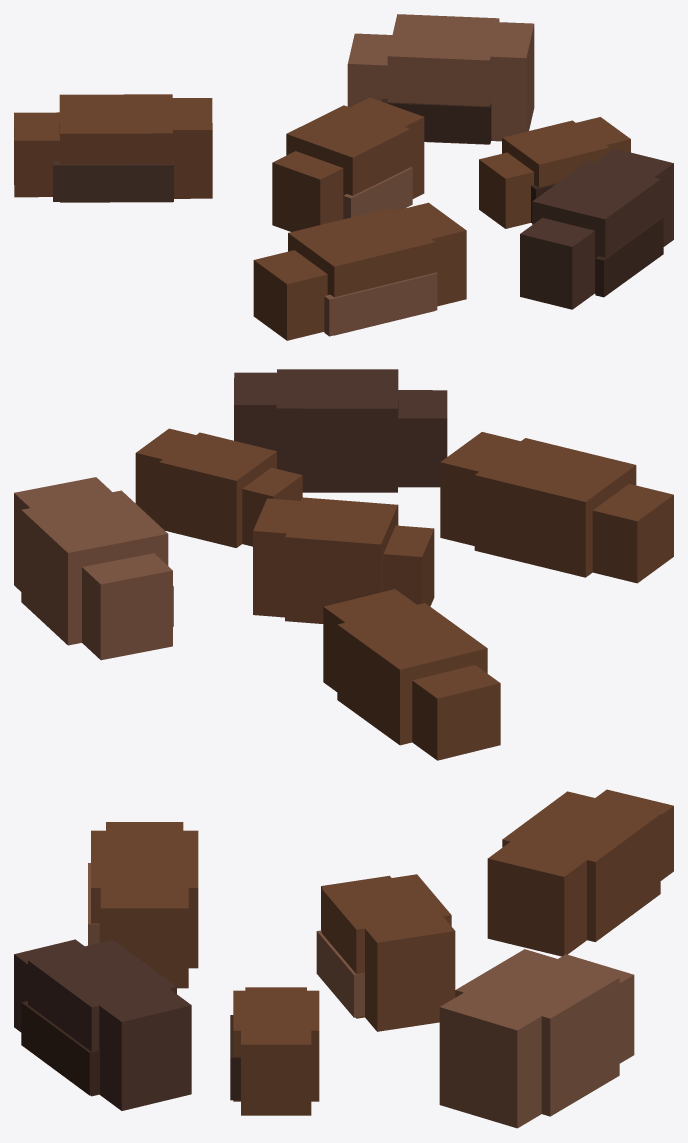
File: CMU3DDecorFloorBrickrubbleSouthWest.glb
3 renders of one model, top to bottom at view 1: azimuth 30°, elevation 25°; view 2: azimuth 150°, elevation 25°; view 3: azimuth 270°, elevation 25°, orthographic. The views are drawn at different scales.
Visible parts, largest first — view 1: brick 2 fractured section 2, brick 5 fractured section 2, brick 1 fractured section 2, brick 6 fractured section 2, brick 3 fractured section 2, brick 6 fractured section 1, brick 5 fractured section 1, brick 3 fractured section 1, brick 2 fractured section 3, brick 1 lower fracture face, brick 5 lower fracture face, brick 4 fractured section 2 (+11 smaller); view 2: brick 5 fractured section 2, brick 6 fractured section 2, brick 2 fractured section 2, brick 1 fractured section 2, brick 3 fractured section 2, brick 4 fractured section 2, brick 2 fractured section 1, brick 1 fractured section 1, brick 5 fractured section 1, brick 6 fractured section 1, brick 5 fractured section 3, brick 3 fractured section 3 (+6 smaller); view 3: brick 2 fractured section 2, brick 1 fractured section 2, brick 2 fractured section 3, brick 6 fractured section 3, brick 1 fractured section 3, brick 3 fractured section 3, brick 6 fractured section 2, brick 5 fractured section 2, brick 5 fractured section 3, brick 3 fractured section 2, brick 4 fractured section 3, brick 4 fractured section 2 (+7 smaller).
Boxes of the visible parts, left/top/right/bottom form: brick 2 fractured section 2: left=387, top=14, right=499, bottom=144; brick 5 fractured section 2: left=288, top=208, right=435, bottom=335; brick 1 fractured section 2: left=59, top=94, right=172, bottom=202; brick 6 fractured section 2: left=532, top=161, right=660, bottom=293; brick 3 fractured section 2: left=286, top=105, right=410, bottom=195; brick 6 fractured section 1: left=520, top=218, right=594, bottom=309; brick 5 fractured section 1: left=253, top=250, right=327, bottom=340; brick 3 fractured section 1: left=272, top=151, right=343, bottom=231; brick 2 fractured section 3: left=490, top=22, right=534, bottom=141; brick 1 lower fracture face: left=53, top=161, right=173, bottom=201; brick 5 lower fracture face: left=324, top=272, right=437, bottom=336; brick 4 fractured section 2: left=502, top=120, right=609, bottom=187; brick 5 fractured section 2: left=474, top=438, right=636, bottom=577; brick 6 fractured section 2: left=276, top=369, right=398, bottom=492; brick 2 fractured section 2: left=21, top=490, right=168, bottom=645; brick 1 fractured section 2: left=337, top=603, right=487, bottom=745; brick 3 fractured section 2: left=285, top=497, right=398, bottom=623; brick 4 fractured section 2: left=159, top=432, right=276, bottom=547; brick 2 fractured section 1: left=82, top=553, right=172, bottom=660; brick 1 fractured section 1: left=412, top=665, right=500, bottom=760; brick 5 fractured section 1: left=592, top=484, right=673, bottom=583; brick 6 fractured section 1: left=398, top=390, right=447, bottom=487; brick 5 fractured section 3: left=440, top=432, right=520, bottom=545; brick 3 fractured section 3: left=253, top=498, right=300, bottom=617; brick 2 fractured section 2: left=455, top=949, right=619, bottom=1116; brick 1 fractured section 2: left=502, top=791, right=660, bottom=941; brick 2 fractured section 3: left=439, top=993, right=541, bottom=1128; brick 6 fractured section 3: left=99, top=988, right=191, bottom=1110; brick 1 fractured section 3: left=487, top=841, right=586, bottom=956; brick 3 fractured section 3: left=365, top=916, right=455, bottom=1031; brick 6 fractured section 2: left=28, top=939, right=176, bottom=1096; brick 5 fractured section 2: left=91, top=830, right=198, bottom=968; brick 5 fractured section 3: left=100, top=888, right=188, bottom=988; brick 3 fractured section 2: left=321, top=874, right=451, bottom=1018; brick 4 fractured section 3: left=241, top=1030, right=311, bottom=1115; brick 4 fractured section 2: left=233, top=990, right=319, bottom=1101.
Bounding box in the file's own units: 0.6582 × 0.11 × 0.6718.
